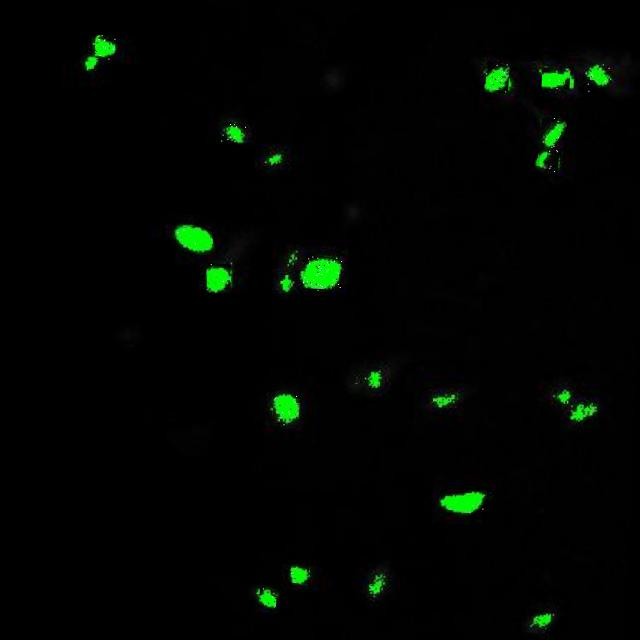Cell: (300, 254, 342, 292), (438, 488, 489, 519), (536, 118, 564, 174), (174, 223, 214, 254), (272, 391, 300, 427), (205, 262, 232, 294), (485, 61, 511, 94), (588, 64, 614, 93), (221, 122, 250, 144), (542, 68, 570, 90), (94, 35, 118, 60), (258, 587, 278, 609), (290, 563, 309, 585)
